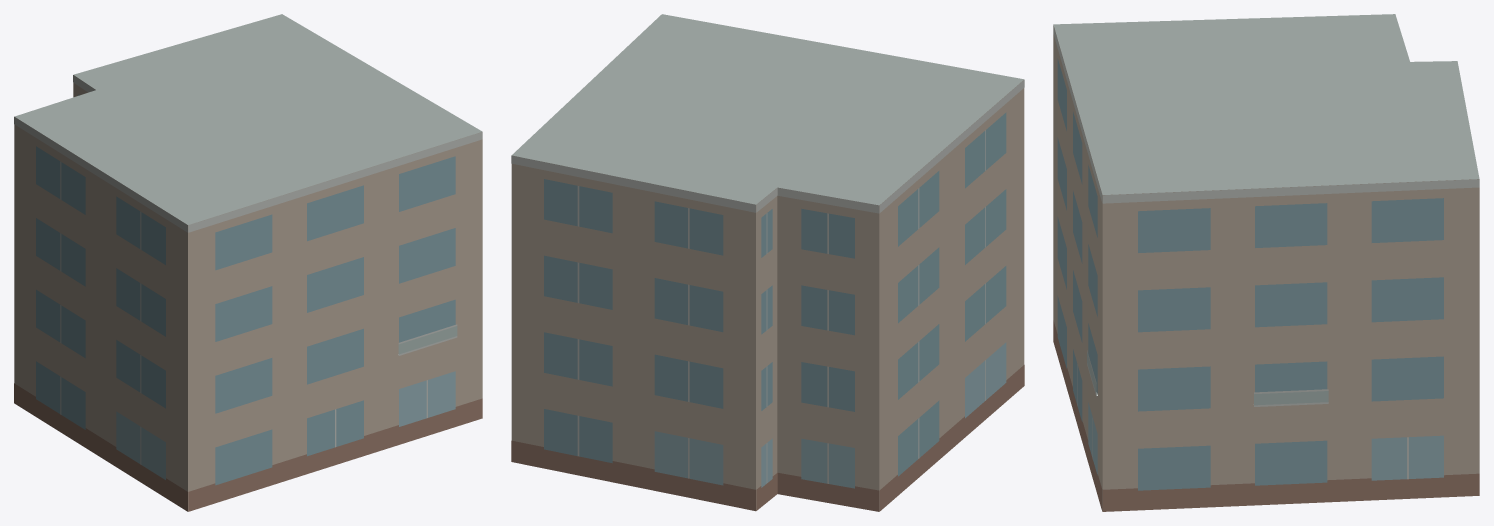
File: survey-upis-32756435.glb
3 views of the same model, side by side, from view 1: azimuth 30°, elevation 25°; view 2: azimuth 150°, elevation 25°; view 3: azimuth 270°, elevation 25° (orthographic). The views are drawn at different scales.
Parts seen in each view (by area): view 1: survey-upis-32756435.tmp; view 2: survey-upis-32756435.tmp; view 3: survey-upis-32756435.tmp.
Boxes of the visible parts, x1=… form: survey-upis-32756435.tmp: x1=14, y1=14, x2=482, y2=511; survey-upis-32756435.tmp: x1=511, y1=14, x2=1024, y2=511; survey-upis-32756435.tmp: x1=1053, y1=14, x2=1479, y2=511.
Bounding box in the file's own units: 11.17 × 9.1 × 11.11.
